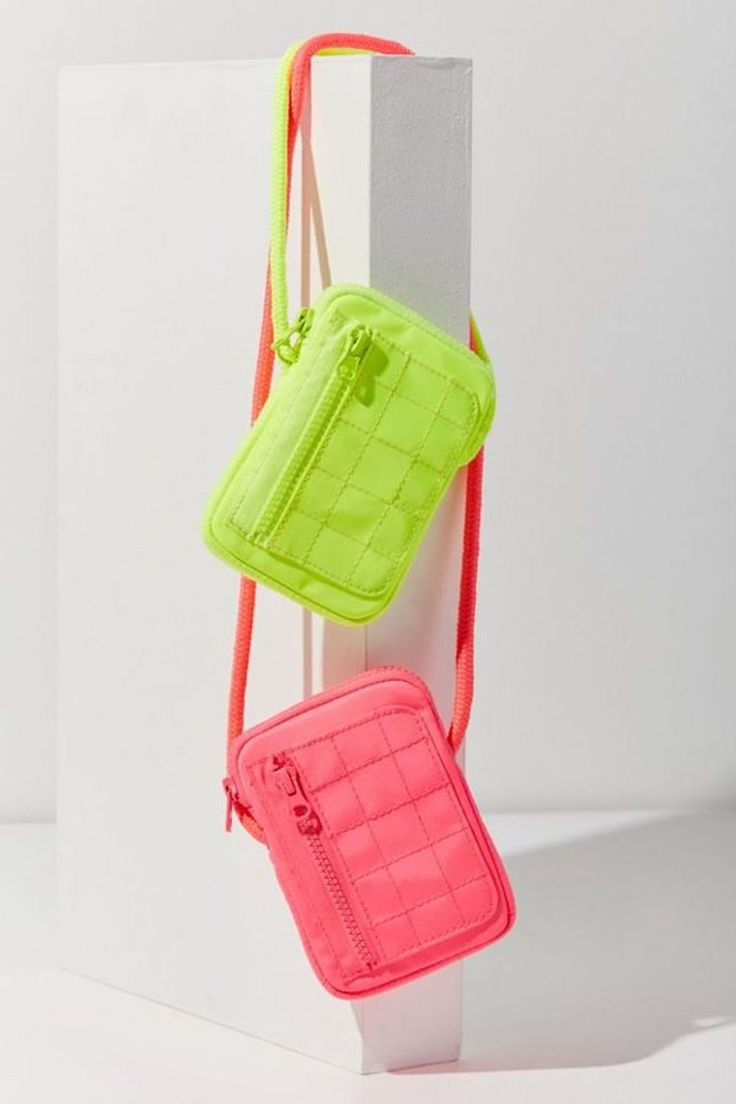nylon: (208, 286, 517, 1000)
